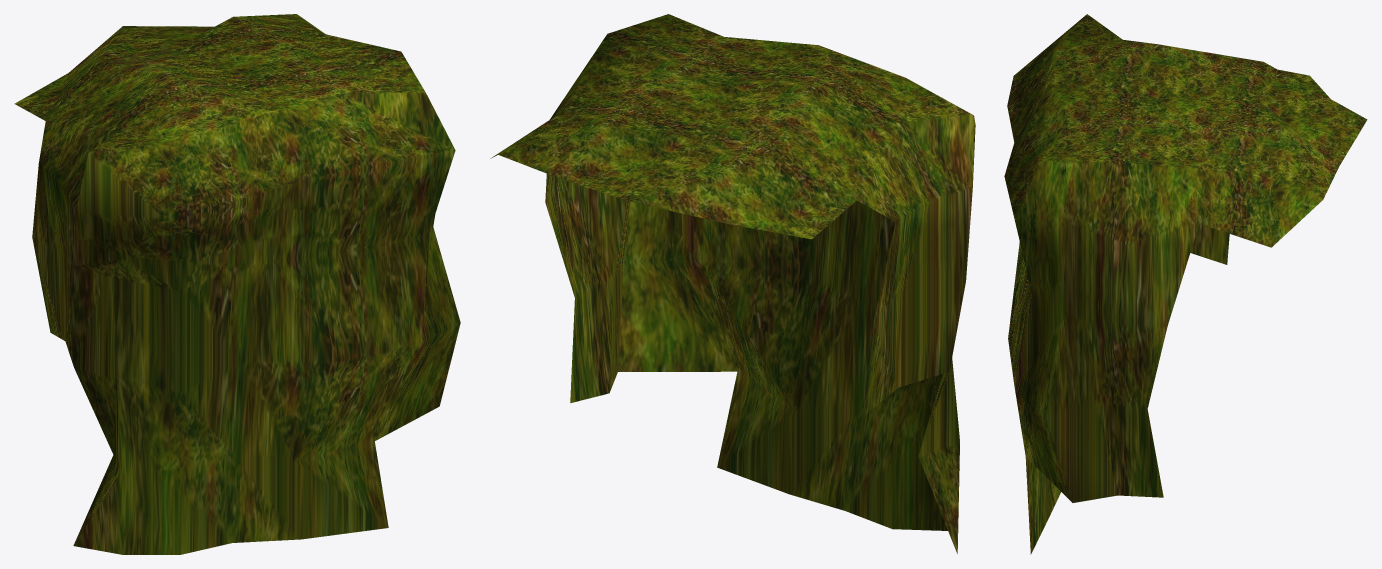
File: TROLLHOLE02_RM_PSURF107.fbx
The picture shows the model from 3 angles, left to right: view 1: azimuth 30°, elevation 25°; view 2: azimuth 150°, elevation 25°; view 3: azimuth 270°, elevation 25°; orthographic projection. The views are drawn at different scales.
Parts seen in each view (by area): view 1: TROLLHOLE02_RM_PSURF107; view 2: TROLLHOLE02_RM_PSURF107; view 3: TROLLHOLE02_RM_PSURF107.
Part boxes in pixels (<box>): TROLLHOLE02_RM_PSURF107: <box>14,14,460,554</box>; TROLLHOLE02_RM_PSURF107: <box>490,14,975,553</box>; TROLLHOLE02_RM_PSURF107: <box>1004,14,1367,554</box>.
Bounding box in the file's own units: 73315 × 82764 × 62616.
1 material, 1 textured.
